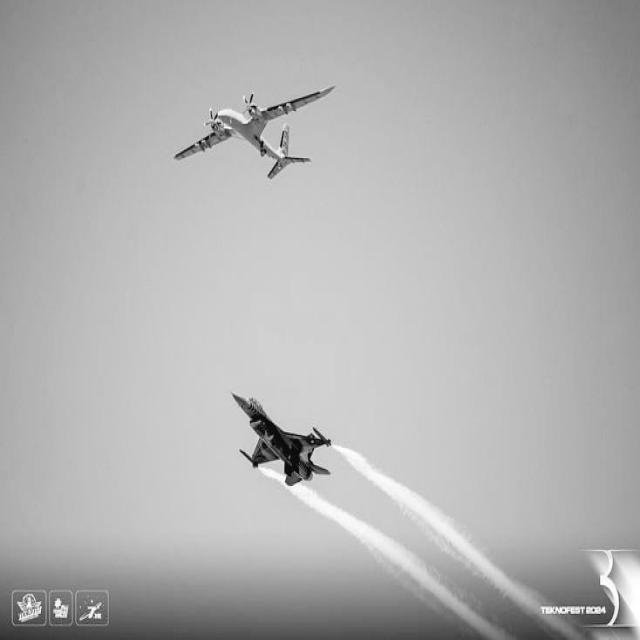iha: (174, 22, 333, 178), (233, 387, 324, 485)
